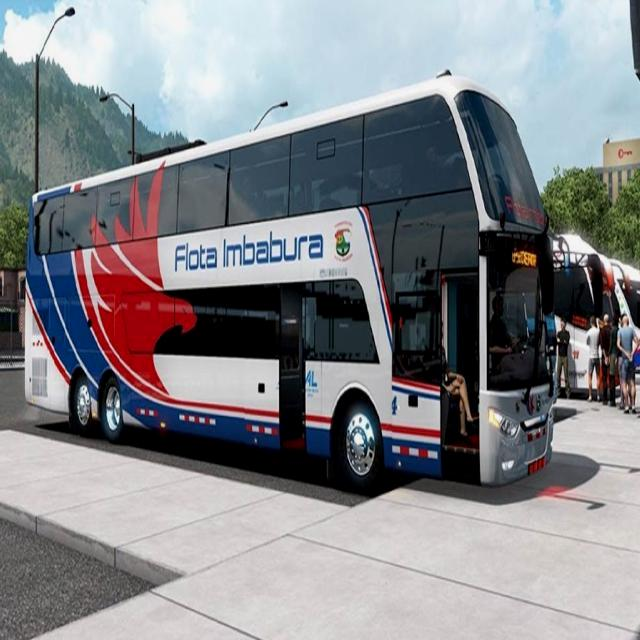BUS: (14, 73, 562, 501)
